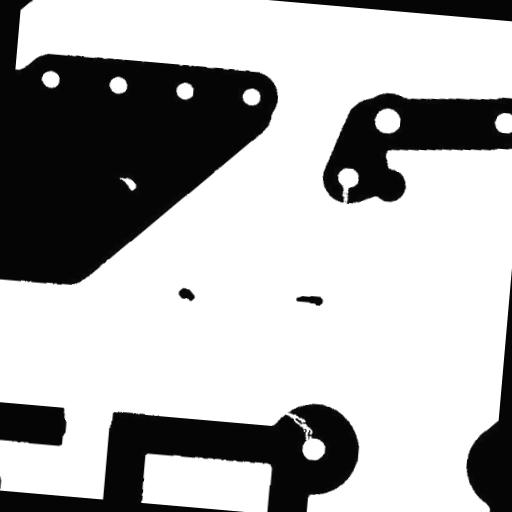copper: (288, 286, 331, 314), (170, 279, 203, 309)
open: (274, 402, 322, 451), (332, 177, 356, 212)
pin-hole: (110, 168, 144, 198)
